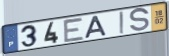3: (20, 24, 40, 49)
4: (43, 21, 60, 45)
A: (84, 15, 108, 40)
E: (62, 17, 86, 44)
I: (119, 10, 126, 35)
S: (129, 7, 151, 34)
